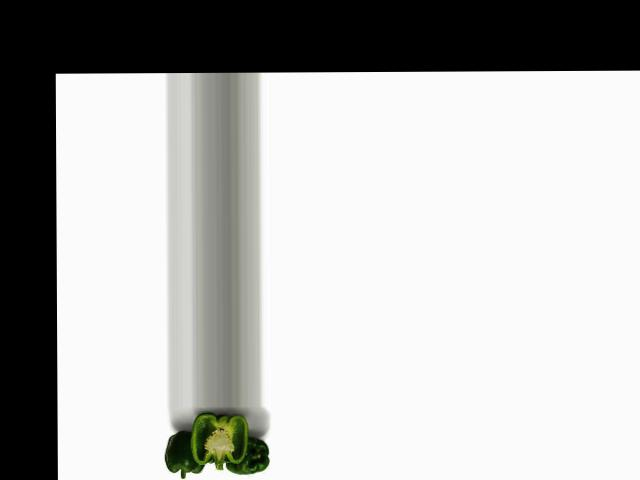bell_pepper: (221, 431, 273, 478)
